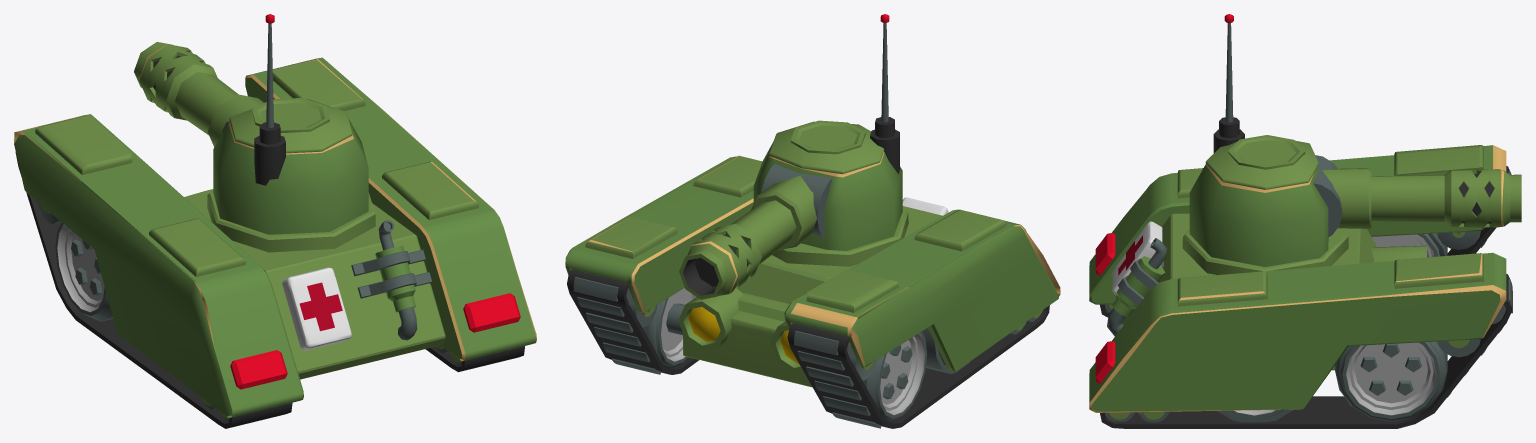
The model's file is Tank.fbx.
3 views of the same model, side by side, from view 1: azimuth 30°, elevation 25°; view 2: azimuth 150°, elevation 25°; view 3: azimuth 270°, elevation 25° (orthographic). The views are drawn at different scales.
Parts seen in each view (by area): view 1: Tank_Threads, Tank_Hatch, Tank_Body, Tank_Gun, Tank_Antenna; view 2: Tank_Threads, Tank_Hatch, Tank_Body, Tank_Gun, Tank_Antenna; view 3: Tank_Threads, Tank_Hatch, Tank_Gun, Tank_Body, Tank_Antenna.
Boxes of the visible parts, x1,y1,x2,y2 form: Tank_Threads: (14, 57, 536, 428); Tank_Hatch: (207, 98, 375, 252); Tank_Body: (184, 189, 445, 379); Tank_Gun: (134, 42, 263, 146); Tank_Antenna: (265, 14, 274, 127); Tank_Threads: (565, 155, 1060, 428); Tank_Hatch: (753, 117, 908, 266); Tank_Body: (666, 197, 948, 387); Tank_Gun: (679, 175, 816, 299); Tank_Antenna: (880, 14, 889, 122); Tank_Threads: (1089, 145, 1512, 428); Tank_Hatch: (1182, 117, 1348, 274); Tank_Gun: (1322, 168, 1521, 228); Tank_Body: (1107, 213, 1426, 370); Tank_Antenna: (1224, 14, 1233, 122).
Bounding box in the file's own units: 144 × 156 × 184.
